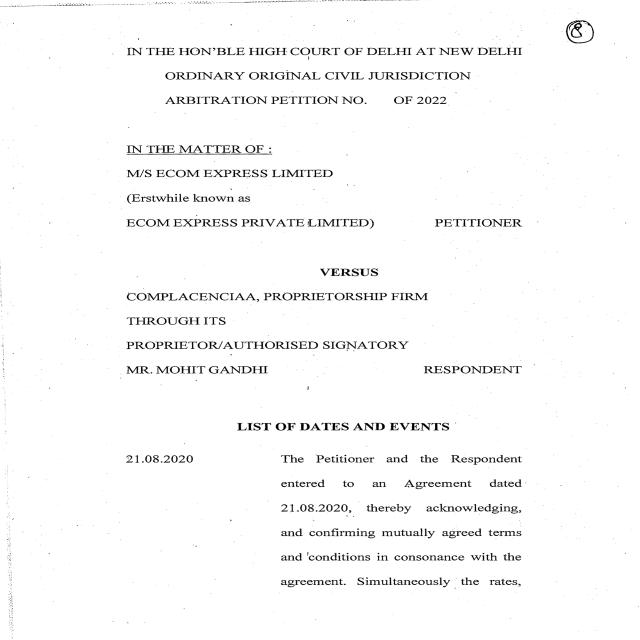page-number: (524, 1, 638, 132)
